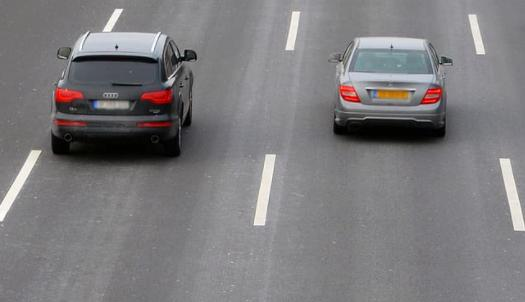car: (29, 20, 216, 169), (315, 20, 469, 147)
